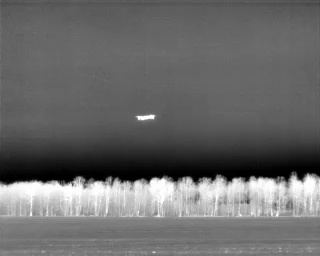DRONE: (132, 109, 159, 126)
